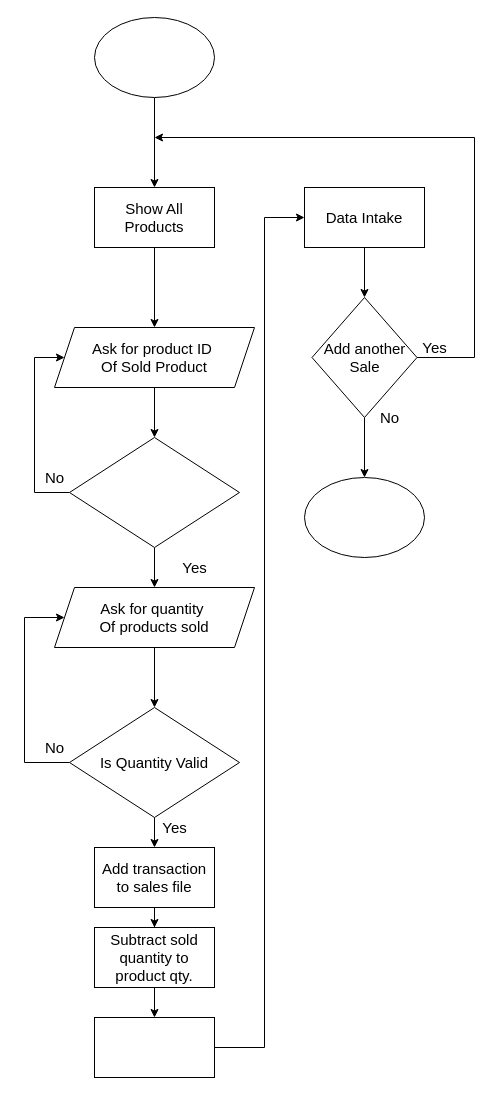
This 500x1095 diagram has some shape labels left out. Here are the shapes that lost their labels. From the top down, the centre of each, then its label:
At pixel 154 57: "Start".
At pixel 154 492: "Does Product exist".
At pixel 364 517: "Stop".
At pixel 154 1047: "Update Master list".
